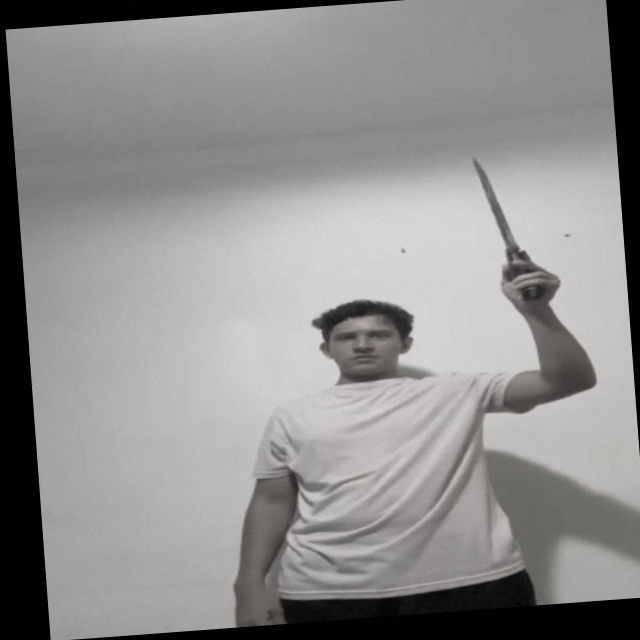Sharp-Object: (472, 154, 516, 249)
